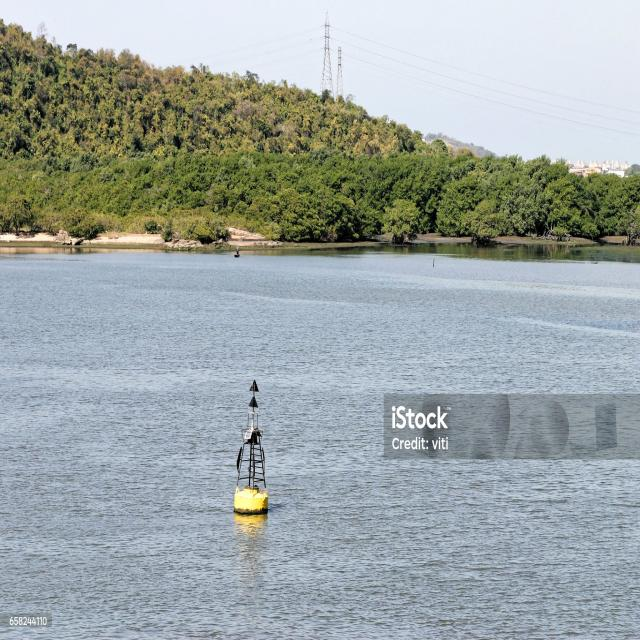marque: (232, 381, 274, 522)
